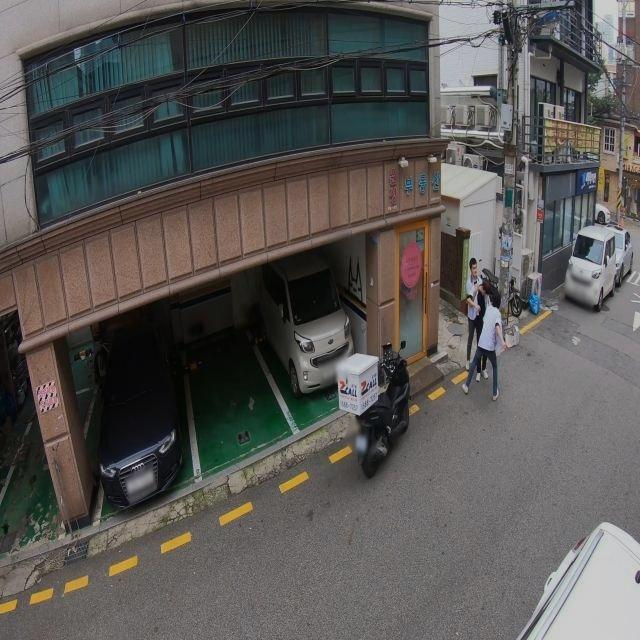fight: (462, 257, 504, 399)
